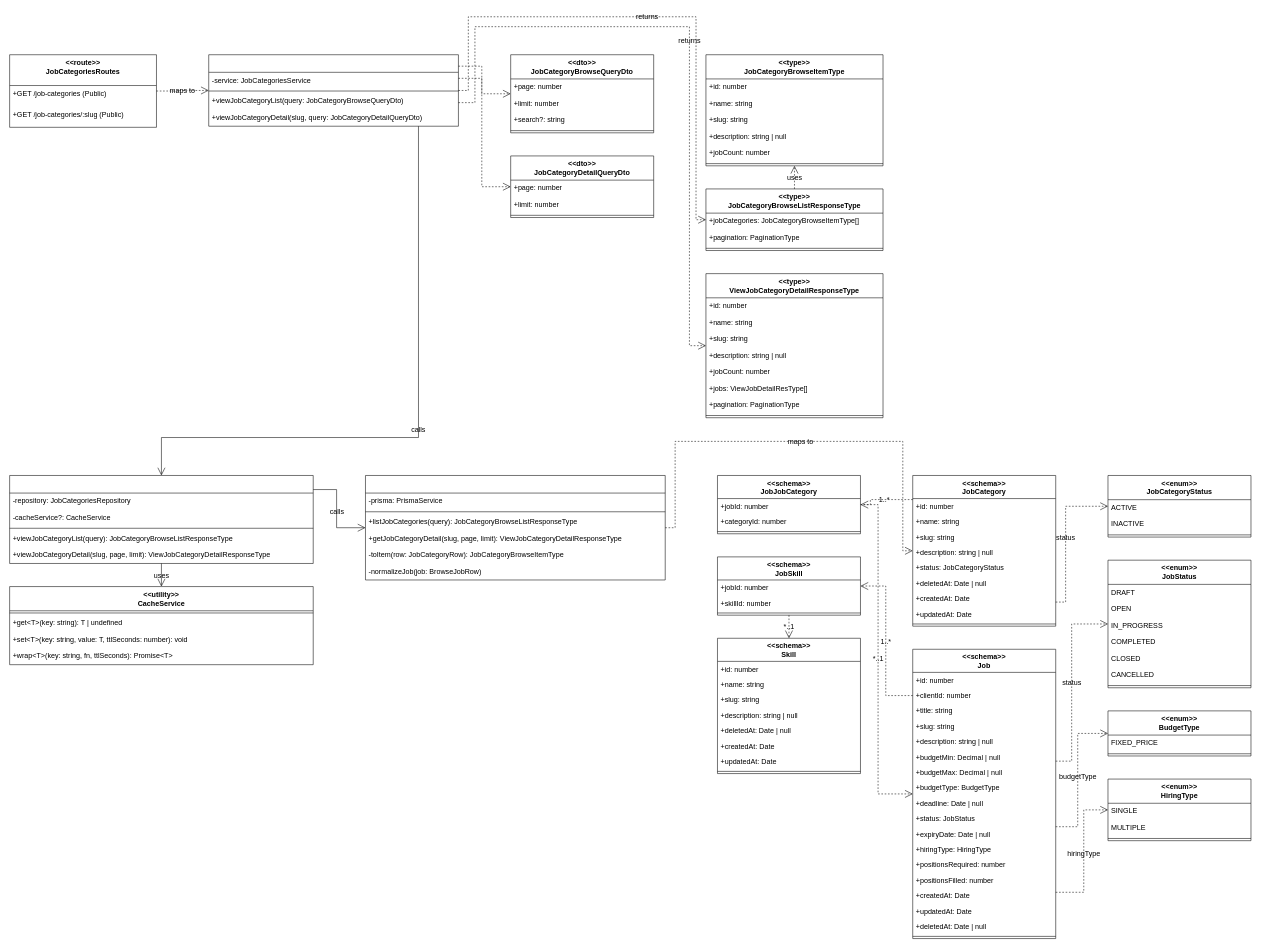
Some shapes in this 1261 by 948 pixel diagram are drawn without their labels. The box of each missing label's shape, as (x1, y1, x2, y2) in pixels:
JobCategoriesController: (208, 54, 458, 126)
JobCategoriesRepository: (365, 475, 665, 580)
JobCategoriesService: (9, 475, 313, 563)
